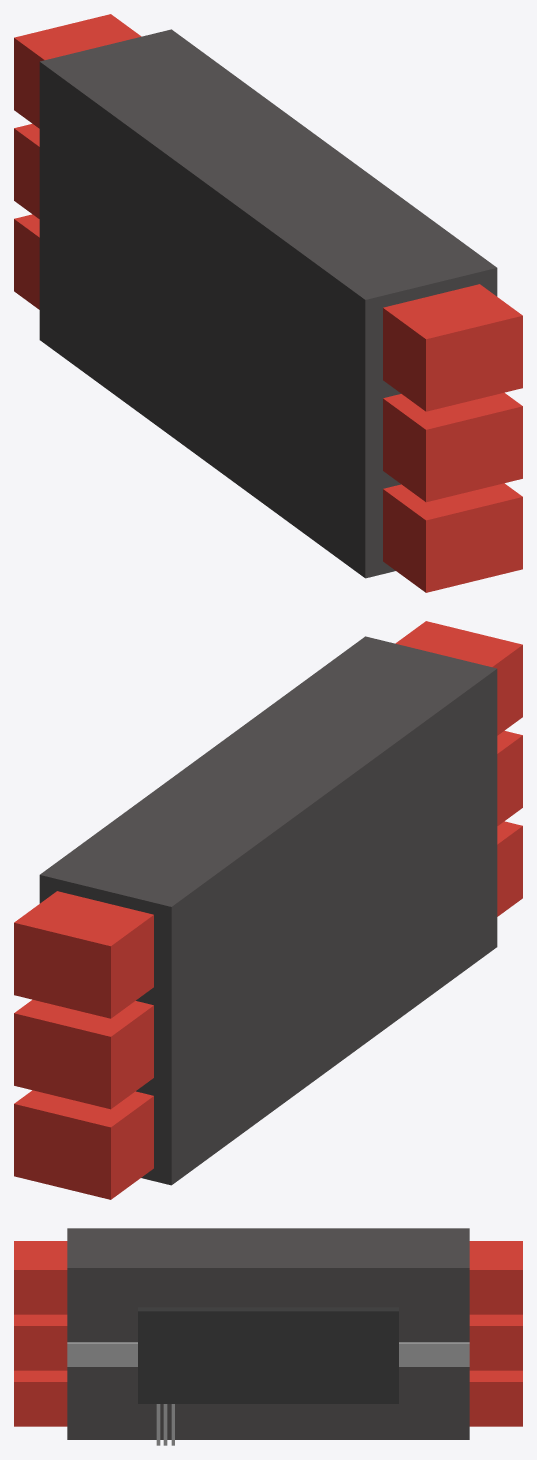
File: Bomb.fbx
3 views of the same model, one above another, from view 1: azimuth 30°, elevation 25°; view 2: azimuth 150°, elevation 25°; view 3: azimuth 270°, elevation 25° (orthographic). The views are drawn at different scales.
Visible parts, largest first — view 1: Cube.001; view 2: Cube.001; view 3: Cube.001.
Boxes of the visible parts, x1,y1,x2,y2 form: Cube.001: (14, 14, 522, 592); Cube.001: (14, 621, 522, 1199); Cube.001: (14, 1228, 522, 1445).
Bounding box in the file's own units: 101 × 191 × 500.
